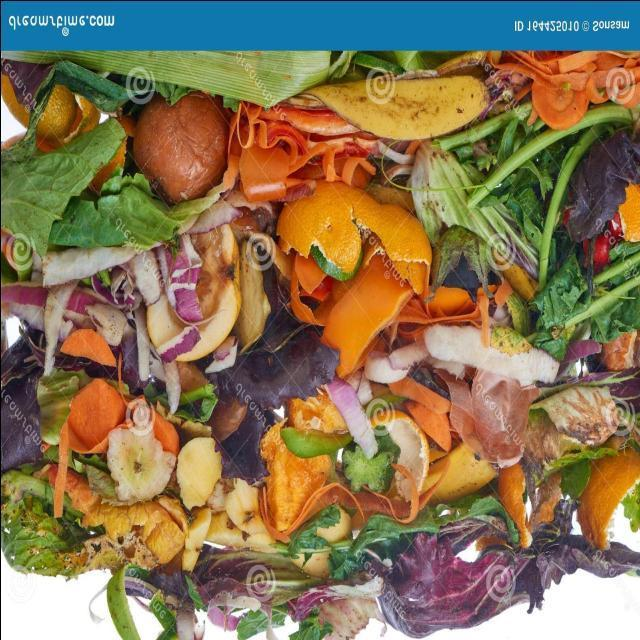Garbage: (0, 49, 640, 640)
